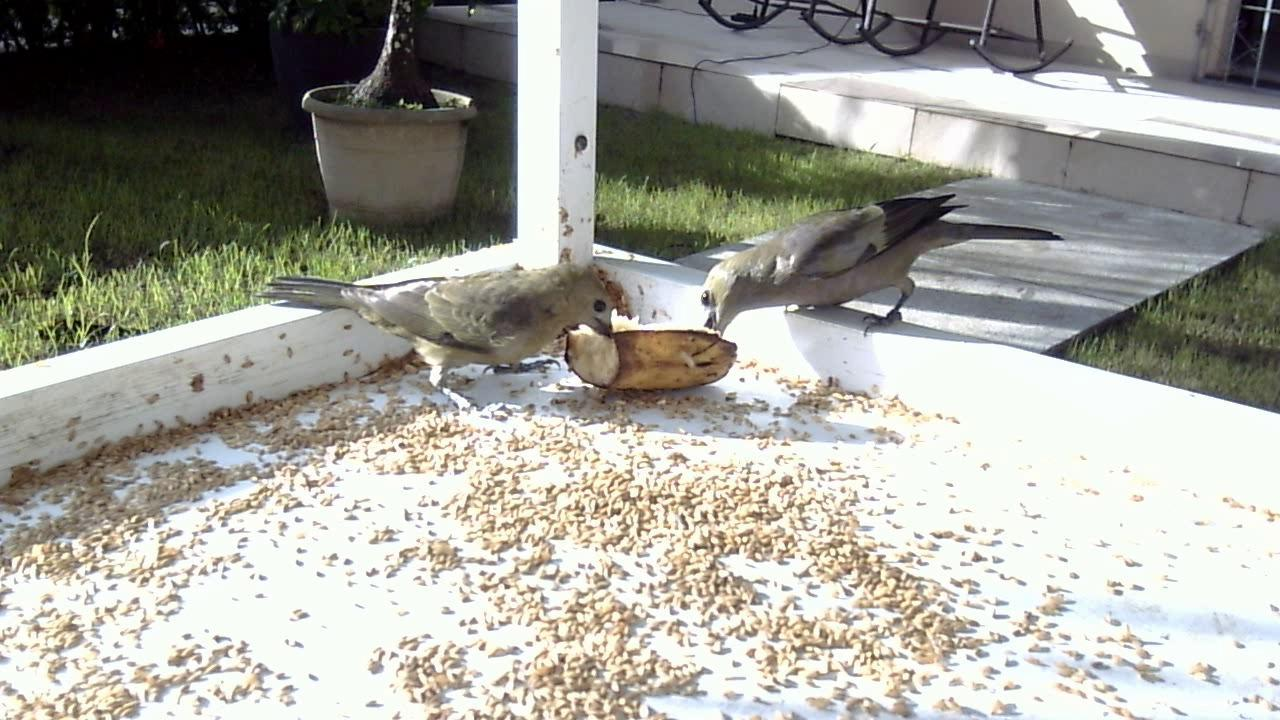sanhaco_do_coqueiro: (676, 168, 1081, 362), (256, 247, 625, 423)
